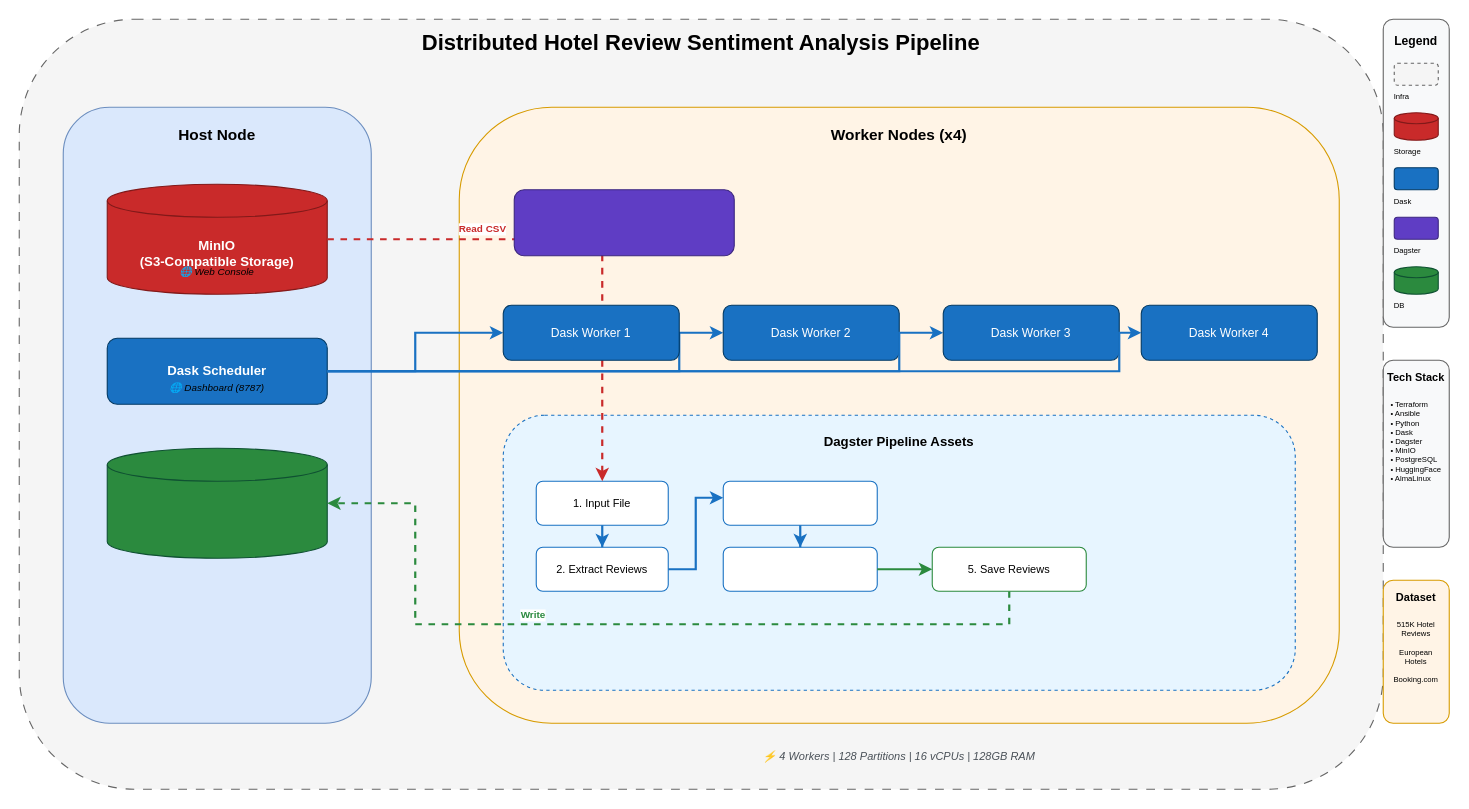
This 1469x809 diagram has some shape labels left out. Each missing label, with the centre of its shape:
4. Scored Reviews: point 799,568
Dagster Orchestrator: point 623,222
PostgreSQL Database: point 216,502
🤗 RoBERTa: point 799,502
